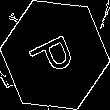P_NE: (27, 28, 83, 82)
